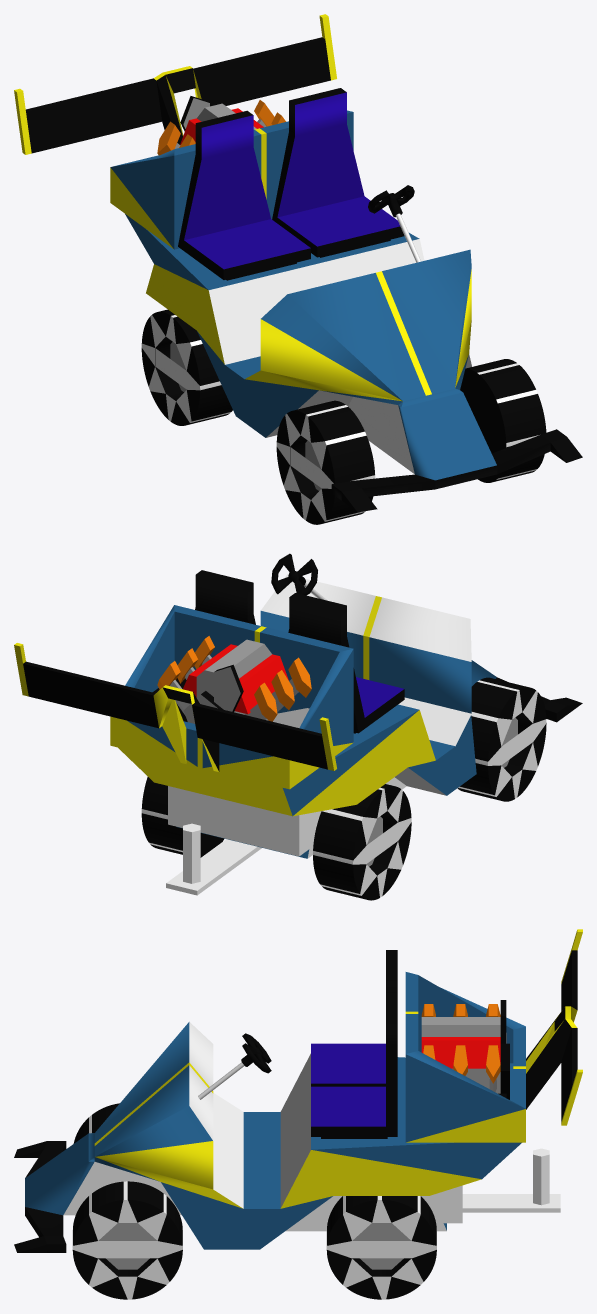
File: LuggerSportChassis.fbx
3 views of the same model, one above another, from view 1: azimuth 30°, elevation 25°; view 2: azimuth 150°, elevation 25°; view 3: azimuth 270°, elevation 25° (orthographic). The views are drawn at different scales.
Parts seen in each view (by area): view 1: LuggerSport_Dashboard, LuggerSportChassis, LuggerSport_Spoiler, LuggerSport_PassengerSeat, LuggerSport_DriverSeat, LuggerSport_FrontBumper, LuggerSport_FrontRightWheel, LuggerSport_EngineBay, LuggerSport_RearRightWheel, LuggerSport_FrontLeftWheel, LuggerSport_Engine, LuggerSport_Steeringwheel; view 2: LuggerSportChassis, LuggerSport_EngineBay, LuggerSport_Dashboard, LuggerSport_Spoiler, LuggerSport_RearRightWheel, LuggerSport_Engine, LuggerSport_FrontRightWheel, LuggerSport_PassengerSeat, LuggerSport_CartPuller, LuggerSport_DriverSeat, LuggerSport_RearLeftWheel, LuggerSport_Steeringwheel (+2 smaller); view 3: LuggerSportChassis, LuggerSport_Dashboard, LuggerSport_EngineBay, LuggerSport_FrontLeftWheel, LuggerSport_RearLeftWheel, LuggerSport_Engine, LuggerSport_FrontBumper, LuggerSport_DriverSeat, LuggerSport_Spoiler, LuggerSport_PassengerSeat, LuggerSport_CartPuller, LuggerSport_Steeringwheel (+1 smaller).
Boxes of the visible parts, x1,y1,x2,y2 form: LuggerSport_Dashboard: (260,249,471,401); LuggerSportChassis: (125,214,471,474); LuggerSport_Spoiler: (14,14,336,154); LuggerSport_PassengerSeat: (178,110,310,280); LuggerSport_DriverSeat: (272,88,404,257); LuggerSport_FrontBumper: (331,388,582,512); LuggerSport_FrontRightWheel: (276,400,375,524); LuggerSport_EngineBay: (110,110,353,249); LuggerSport_RearRightWheel: (141,309,232,425); LuggerSport_FrontLeftWheel: (460,359,546,482); LuggerSport_Engine: (157,96,285,155); LuggerSport_Steeringwheel: (368,185,420,262); LuggerSportChassis: (118,697,476,858); LuggerSport_EngineBay: (110,605,353,789); LuggerSport_Dashboard: (260,574,471,713); LuggerSport_Spoiler: (14,643,336,771); LuggerSport_RearRightWheel: (313,784,411,900); LuggerSport_Engine: (157,636,311,723); LuggerSport_FrontRightWheel: (457,677,546,801); LuggerSport_PassengerSeat: (288,593,404,733); LuggerSport_CartPuller: (166,823,261,895); LuggerSport_DriverSeat: (195,570,255,624); LuggerSport_RearLeftWheel: (141,777,224,857); LuggerSport_Steeringwheel: (271,553,326,600); LuggerSportChassis: (63,1053,521,1249); LuggerSport_Dashboard: (94,1021,213,1189); LuggerSport_EngineBay: (405,972,525,1142); LuggerSport_FrontLeftWheel: (72,1181,182,1299); LuggerSport_RearLeftWheel: (326,1196,436,1299); LuggerSport_Engine: (421,1000,509,1099); LuggerSport_FrontBumper: (14,1133,94,1252); LuggerSport_DriverSeat: (311,992,397,1138); LuggerSport_Spoiler: (526,929,582,1125); LuggerSport_PassengerSeat: (311,950,397,1086); LuggerSport_CartPuller: (462,1148,560,1212); LuggerSport_Steeringwheel: (198,1033,271,1099).
Size of the model in its own units: 96.76 by 84.41 by 163.
1 material, 1 textured.
